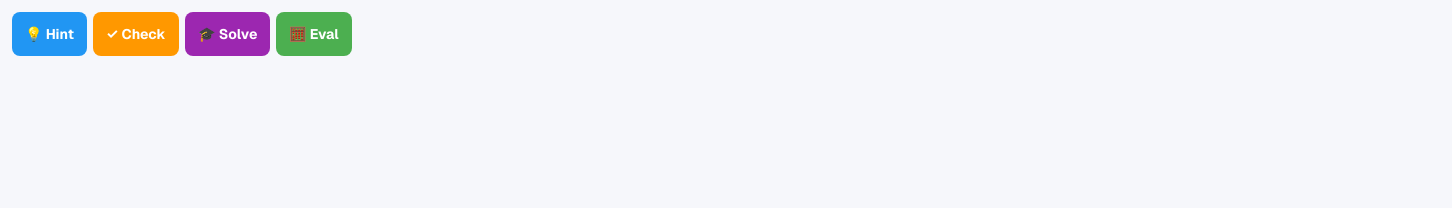
Scenario: MathTutorTool: a cloud refusal › a follow-up that fails for another reason keeps the old message
Click the button with test id "math-tutor-hint" at (49, 34), box [12,12,87,56]
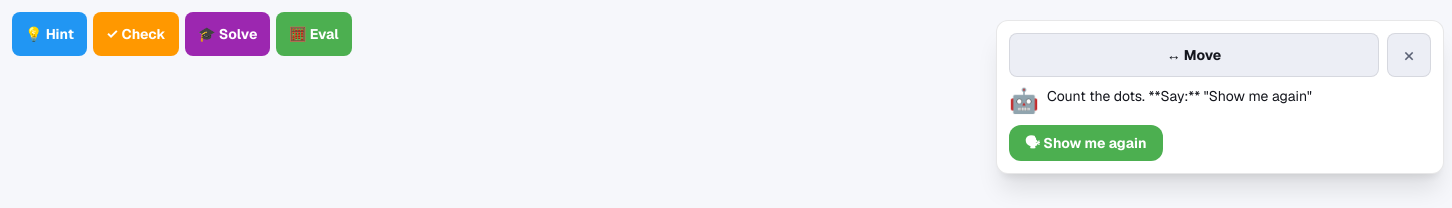
Click the button "🗣 Show me again" at (1086, 143), box [1009,125,1162,161]
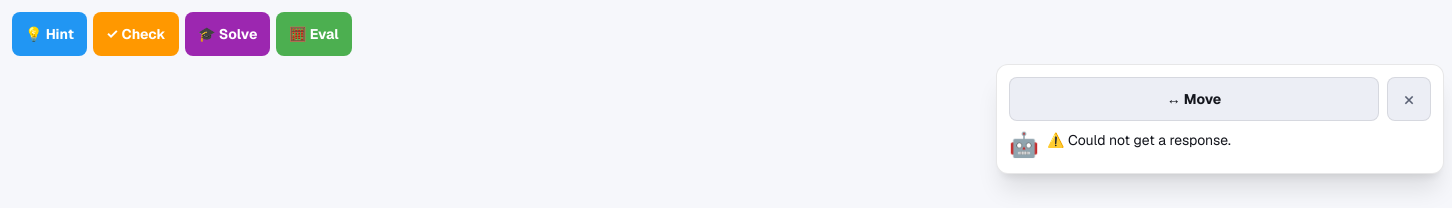
Expected: the text "⚠️ Could not get a response." is shown, [1047,131,1231,149]
